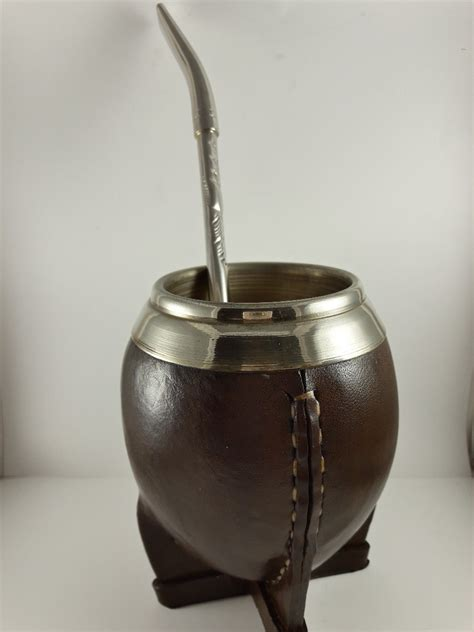cuero: (121, 341, 403, 632)
